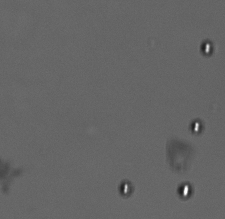Living Cell: (177, 181, 195, 201), (118, 179, 134, 197), (201, 40, 215, 57), (190, 119, 204, 133)
